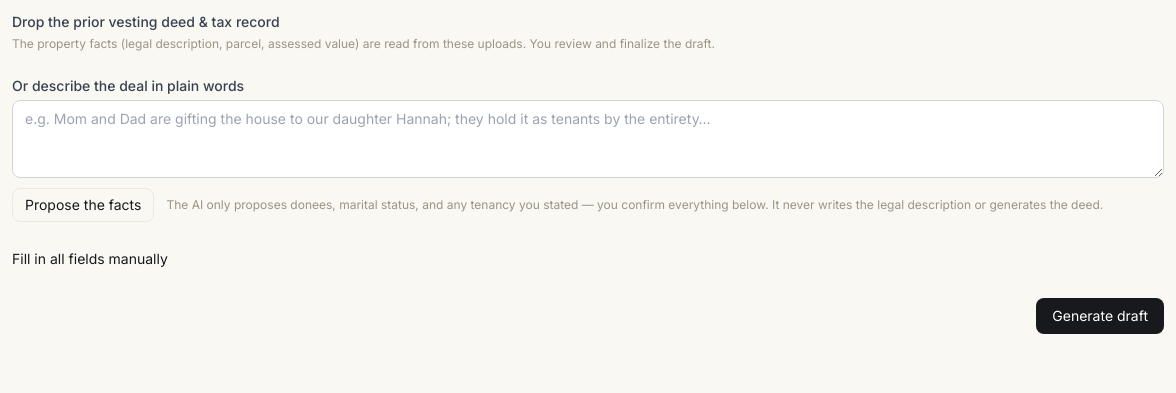
Test: DeedIntake — DEED-INTAKE-REDESIGN-1 + DEED-EXPRESS-1 › free-associate "blocked" (egress inert) shows a clean notice, never a proposal
Replace the text in the text box with test id "deed-intake-freetext" with "gift to Hannah". click: (588, 139)
box: [12, 100, 1164, 178]
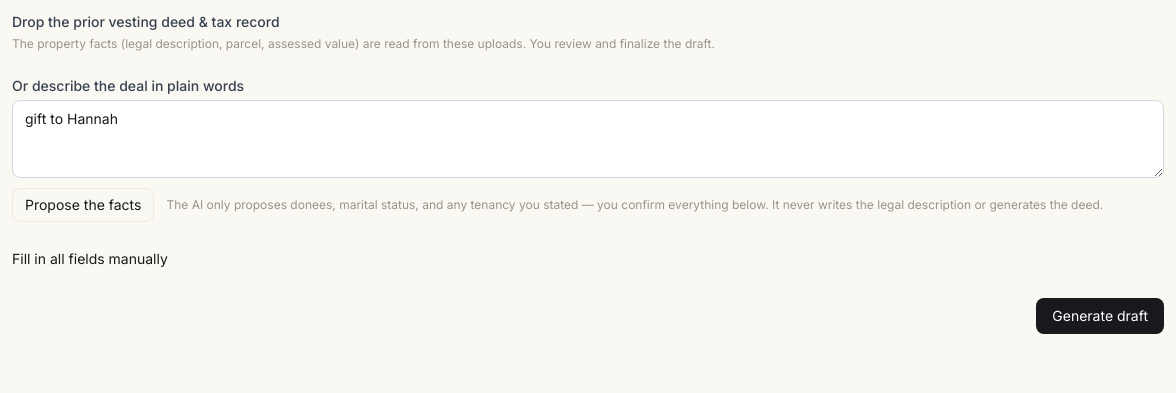
Click the button with test id "deed-intake-propose". click: (83, 205)
box: [12, 188, 154, 222]
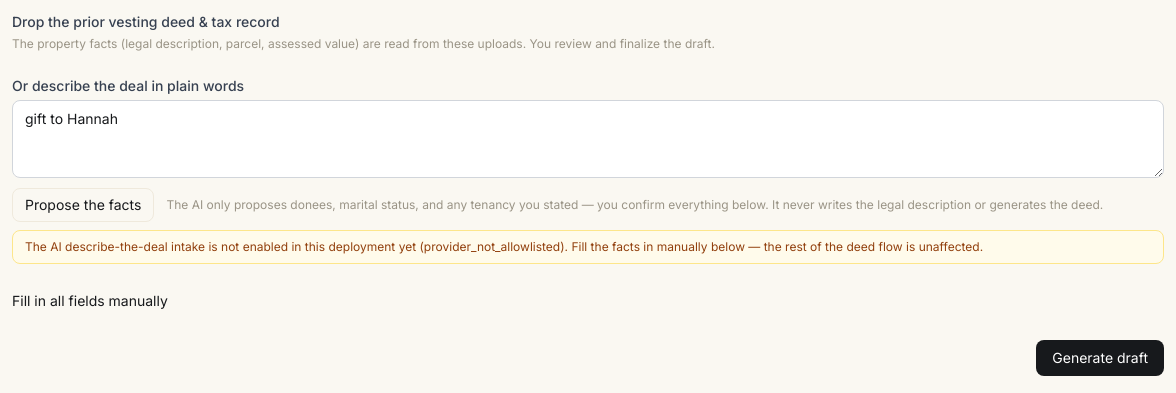
Expected: the text with test id "deed-intake-blocked" is shown, [12, 230, 1164, 264]
Expected: the text with test id "deed-intake-blocked" shows "provider_not_allowlisted", [424, 239, 560, 254]
